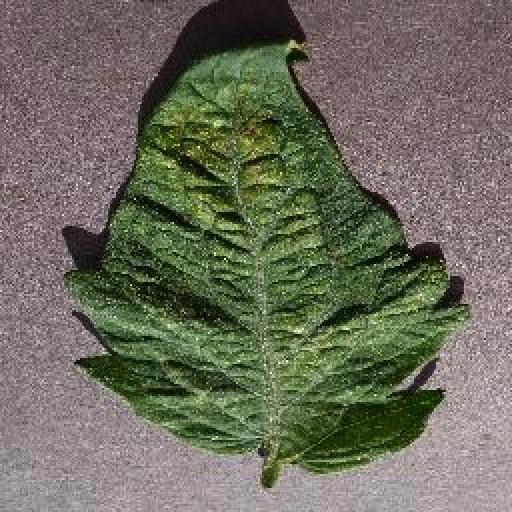disease_tomato: (60, 39, 470, 477)
